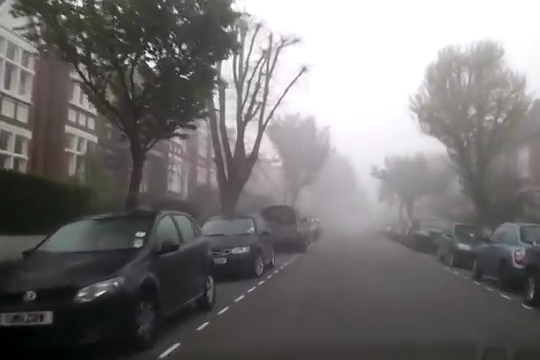car: (1, 209, 215, 360), (473, 219, 540, 303), (190, 212, 276, 277), (437, 218, 492, 271), (257, 204, 309, 254), (406, 214, 451, 253), (291, 213, 322, 241)
